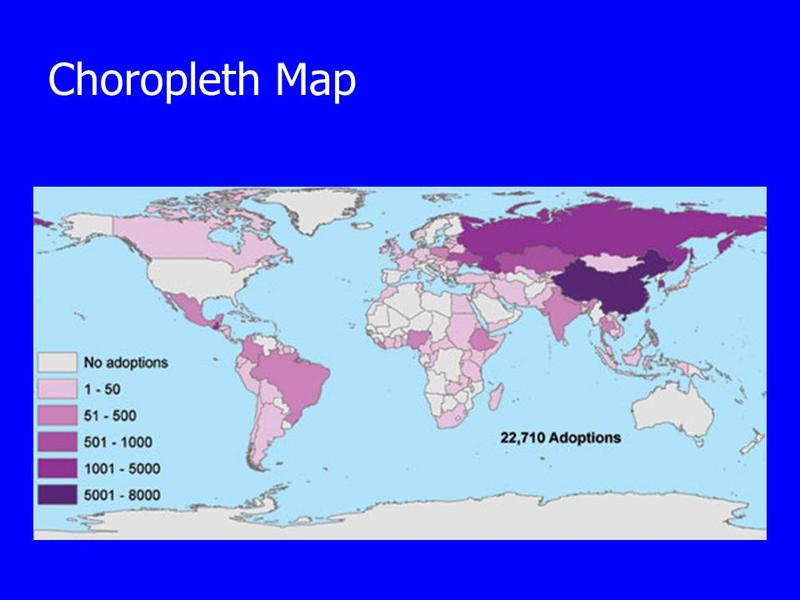legend: (35, 349, 171, 508)
